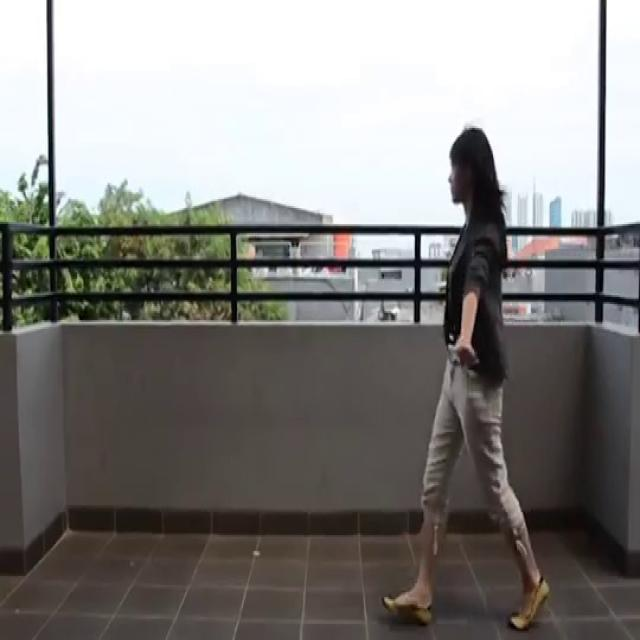normal: (383, 123, 562, 633)
